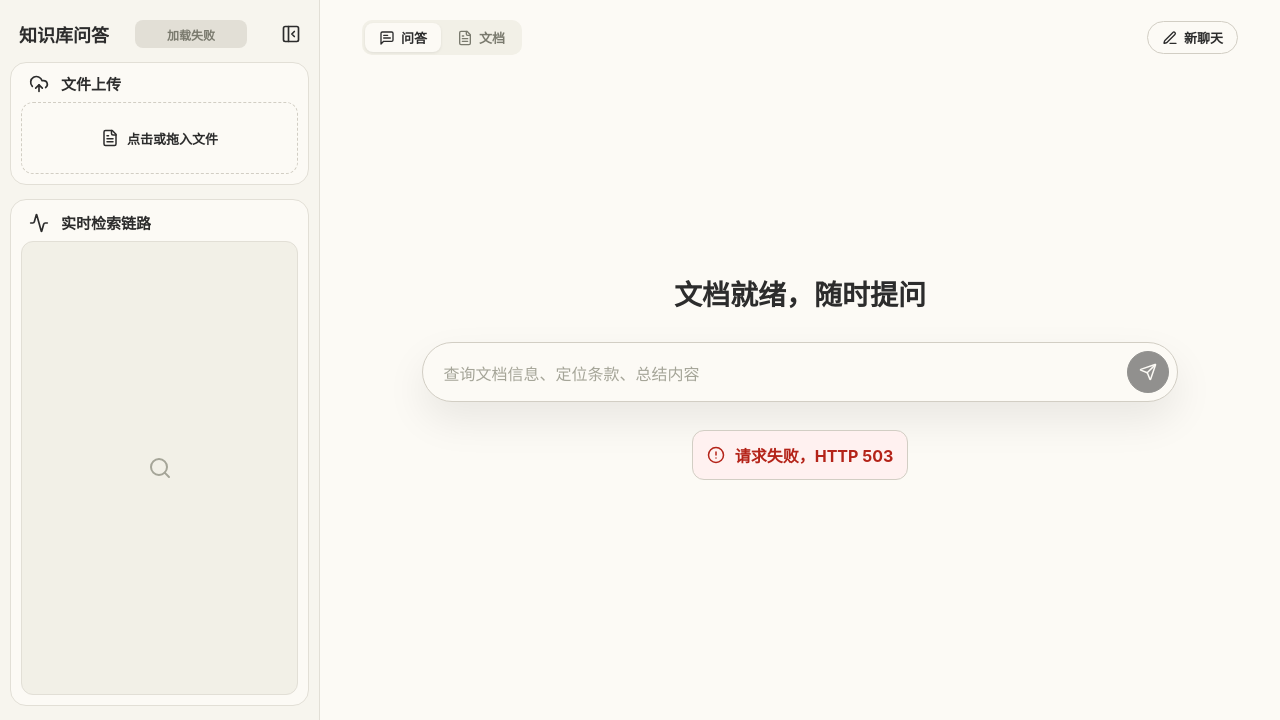
FinRAG chat interface › shows knowledge base load failure and retries from the switcher
This screenshot has width=1280, height=720.
Expected: the button with aria-label "重新加载知识库" reads "加载失败", [135,20,247,48]
Click the button "文档".
click(481, 38)  # box [443,23,519,52]
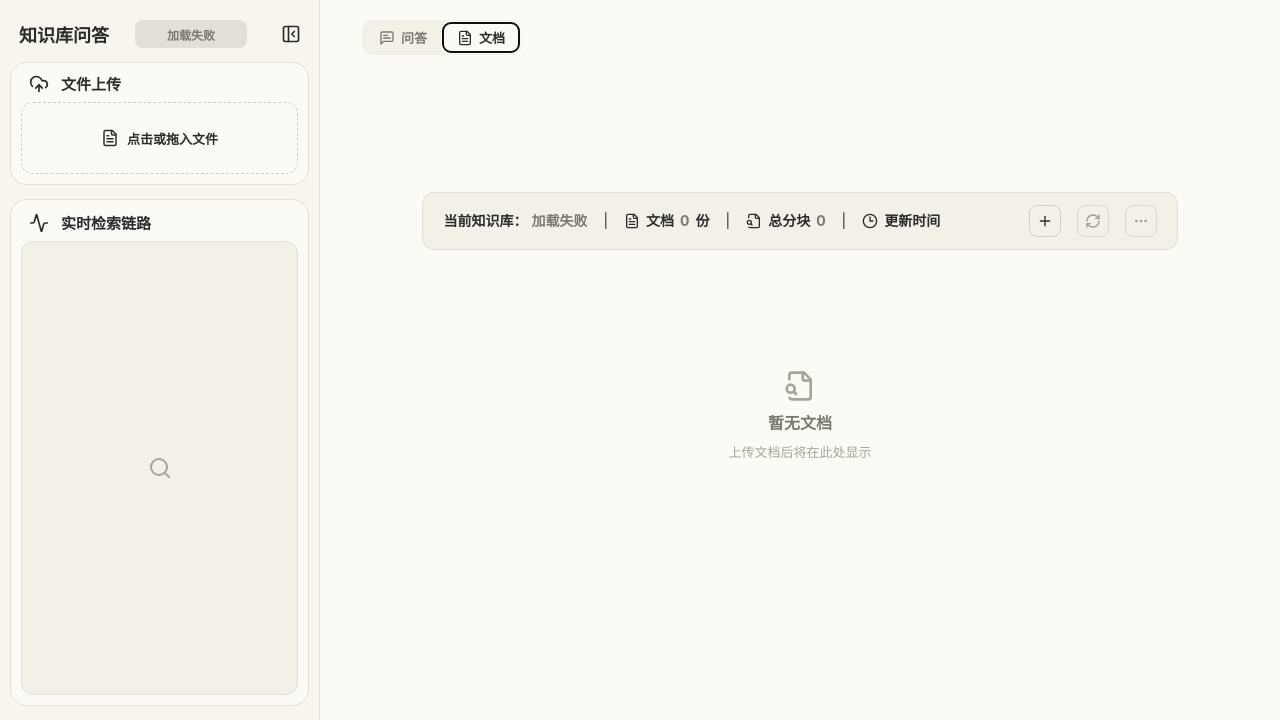
Expected: the text "Finance" is not shown
Expected: the text "-" is not shown
Click the button with aria-label "重新加载知识库".
click(191, 34)  # box [135,20,247,48]
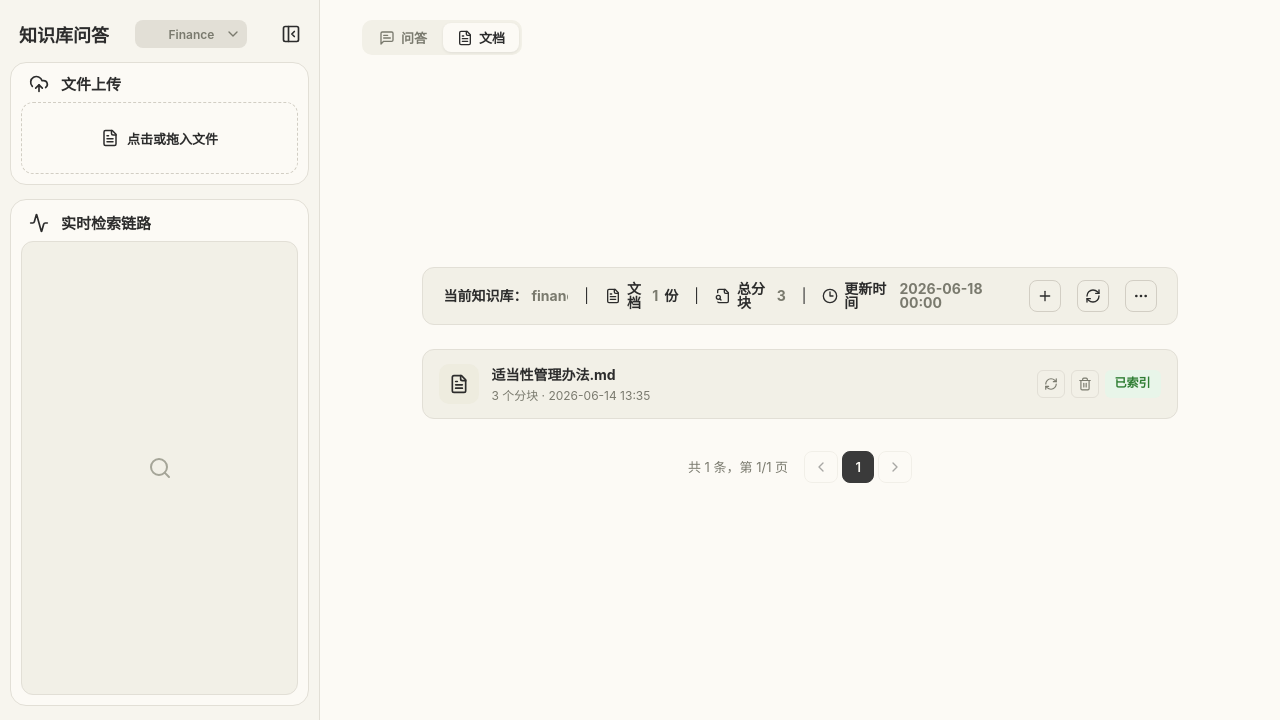
Expected: the button with aria-label "切换知识库 finance" is shown, [135,20,247,48]
